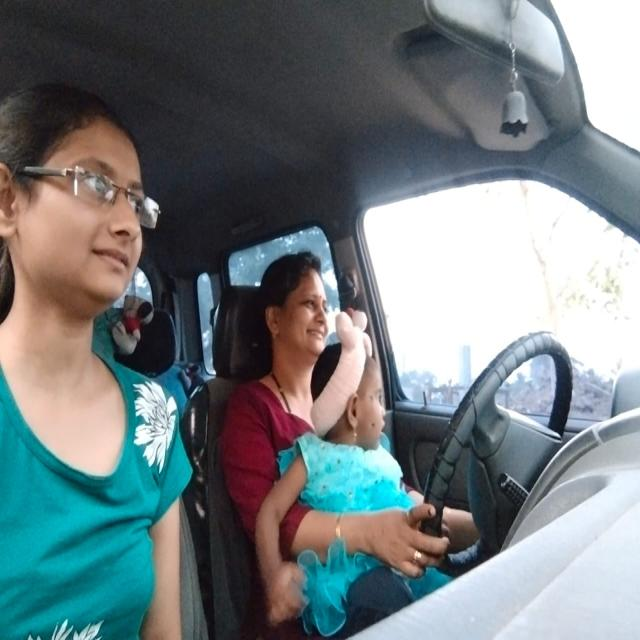child: (306, 312, 390, 465)
person: (2, 80, 158, 352), (256, 243, 336, 367)
